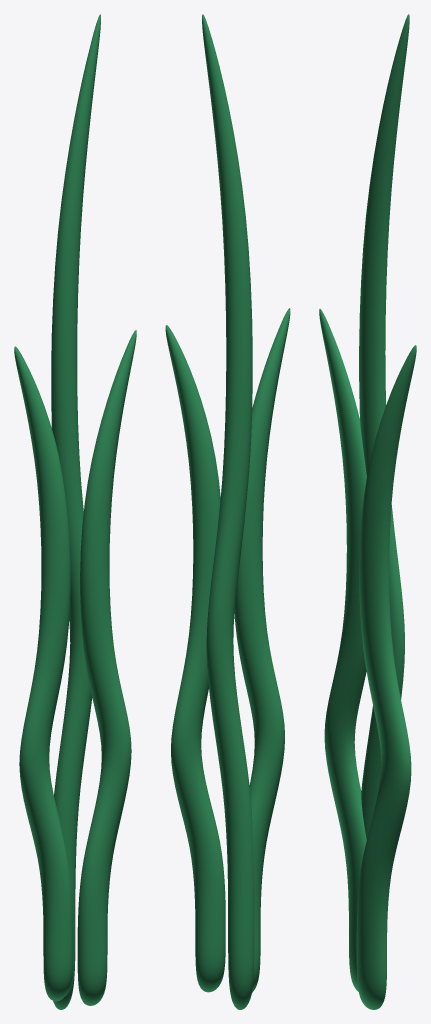
File: Seaweed.obj
3 renders of one model, left to right at view 1: azimuth 30°, elevation 25°; view 2: azimuth 210°, elevation 25°; view 3: azimuth 330°, elevation 25°, orthographic.
Visible parts, largest first — view 1: Cube_0; view 2: Cube_0; view 3: Cube_0.
Part boxes in pixels (box(x1,y1,x2,y2)): Cube_0: box(14, 14, 136, 1009); Cube_0: box(165, 14, 290, 1009); Cube_0: box(319, 14, 416, 1009).
Size of the model in its own units: 2.86 by 24.62 by 0.9303.
